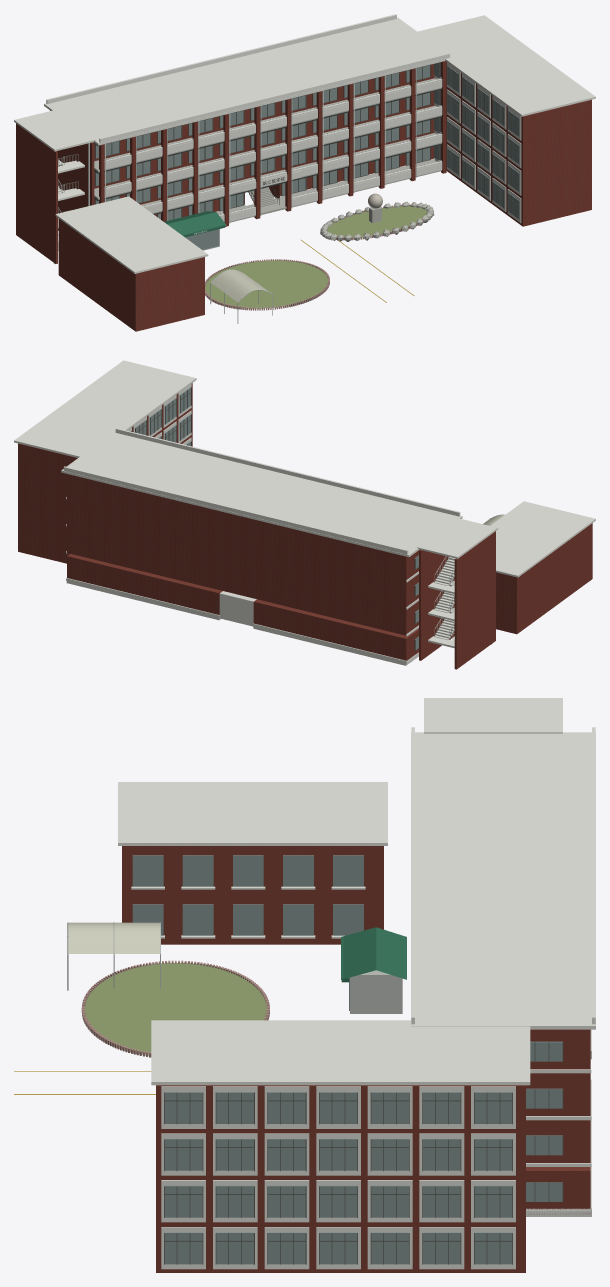
The model's file is teaching3-structure-far.glb.
The picture shows the model from 3 angles, top to bottom: view 1: azimuth 30°, elevation 25°; view 2: azimuth 150°, elevation 25°; view 3: azimuth 270°, elevation 25°; orthographic projection. The views are drawn at different scales.
Visible parts, largest first — view 1: main projecting cornice, right classroom wing, classroom glazing, two storey annex, right wing cornice, continuous red brick piers, stair red brick blade walls, annex white cornice, white gallery solid balustrade, planted island lawn, balustrade raised panel, wing broad windows (+18 smaller); view 2: upper classroom block, main projecting cornice, right wing cornice, stair red brick blade walls, right classroom wing, two storey annex, annex white cornice, ground classrooms left, ground classrooms right, roof parapet, white lower plinth, stair tower flat canopy (+6 smaller); view 3: main projecting cornice, wing broad windows, right wing cornice, wing white window surrounds, right classroom wing, annex white cornice, two storey annex, planted island lawn, annex windows, upper classroom block, wing vertical mullions, stair tower flat canopy (+10 smaller).
Part boxes in pixels (x1=…): main projecting cornice: x1=44, y1=17, x2=451, y2=145; right classroom wing: x1=446, y1=62, x2=591, y2=226; classroom glazing: x1=96, y1=65, x2=429, y2=220; two storey annex: x1=58, y1=218, x2=204, y2=331; right wing cornice: x1=418, y1=15, x2=595, y2=116; continuous red brick piers: x1=99, y1=61, x2=446, y2=226; stair red brick blade walls: x1=16, y1=123, x2=94, y2=263; annex white cornice: x1=55, y1=196, x2=208, y2=273; white gallery solid balustrade: x1=104, y1=78, x2=442, y2=221; planted island lawn: x1=205, y1=206, x2=427, y2=308; balustrade raised panel: x1=106, y1=81, x2=440, y2=220; wing broad windows: x1=434, y1=62, x2=519, y2=219; upper classroom block: x1=67, y1=474, x2=419, y2=635; main projecting cornice: x1=61, y1=431, x2=462, y2=557; right wing cornice: x1=14, y1=360, x2=196, y2=457; stair red brick blade walls: x1=419, y1=531, x2=495, y2=669; right classroom wing: x1=18, y1=383, x2=192, y2=563; two storey annex: x1=496, y1=523, x2=592, y2=634; annex white cornice: x1=490, y1=501, x2=595, y2=577; ground classrooms left: x1=253, y1=599, x2=418, y2=660; ground classrooms right: x1=67, y1=554, x2=222, y2=614; roof parapet: x1=63, y1=428, x2=460, y2=554; white lower plinth: x1=66, y1=578, x2=418, y2=665; stair tower flat canopy: x1=417, y1=518, x2=497, y2=558; main projecting cornice: x1=411, y1=732, x2=595, y2=1029; wing broad windows: x1=164, y1=1092, x2=512, y2=1264; right wing cornice: x1=151, y1=1020, x2=530, y2=1085; wing white window surrounds: x1=161, y1=1086, x2=515, y2=1269; right classroom wing: x1=156, y1=1085, x2=525, y2=1272; annex white cornice: x1=118, y1=782, x2=387, y2=845; two storey annex: x1=122, y1=846, x2=383, y2=944; planted island lawn: x1=85, y1=963, x2=266, y2=1053; annex windows: x1=132, y1=855, x2=363, y2=935; upper classroom block: x1=526, y1=1029, x2=590, y2=1162; wing vertical mullions: x1=164, y1=1092, x2=512, y2=1264; stair tower flat canopy: x1=424, y1=698, x2=562, y2=733.
Bounding box in the file's own units: 60.01 × 14.82 × 37.75.
Materials: 14 (1 with a texture image).
